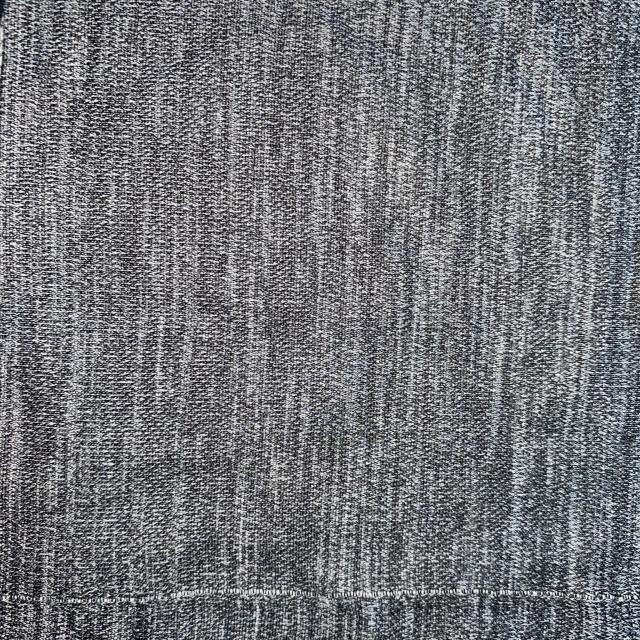Line: (3, 587, 639, 606)
